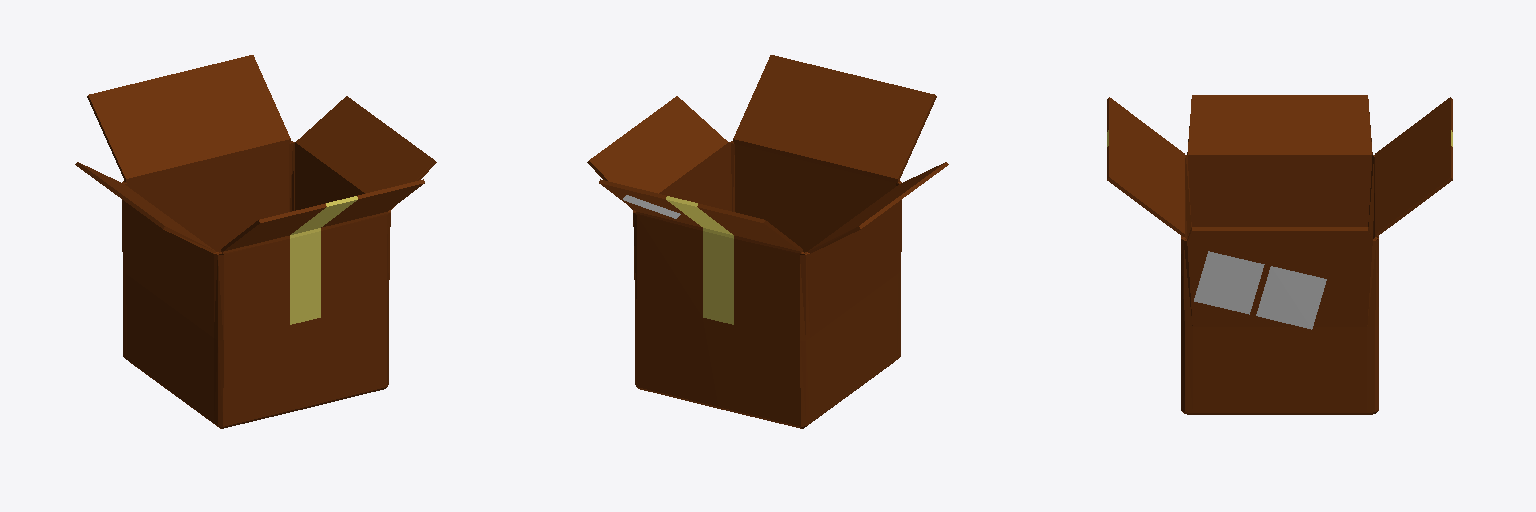
Rendered from Cardboard.027.obj.
3 renders of one model, left to right at view 1: azimuth 30°, elevation 25°; view 2: azimuth 150°, elevation 25°; view 3: azimuth 270°, elevation 25°, orthographic.
Visible parts, largest first — view 1: Cardboard.027_Cube.012; view 2: Cardboard.027_Cube.012; view 3: Cardboard.027_Cube.012, sign4.013_sign4.009, sign2.018_sign2.012.
Part boxes in pixels (left/top/right/bottom): Cardboard.027_Cube.012: left=75, top=55, right=436, bottom=428; Cardboard.027_Cube.012: left=587, top=55, right=948, bottom=428; Cardboard.027_Cube.012: left=1107, top=95, right=1452, bottom=414; sign4.013_sign4.009: left=1256, top=266, right=1326, bottom=329; sign2.018_sign2.012: left=1194, top=251, right=1264, bottom=314.
Size of the model in its own units: 0.6057 by 0.5029 by 0.6638.